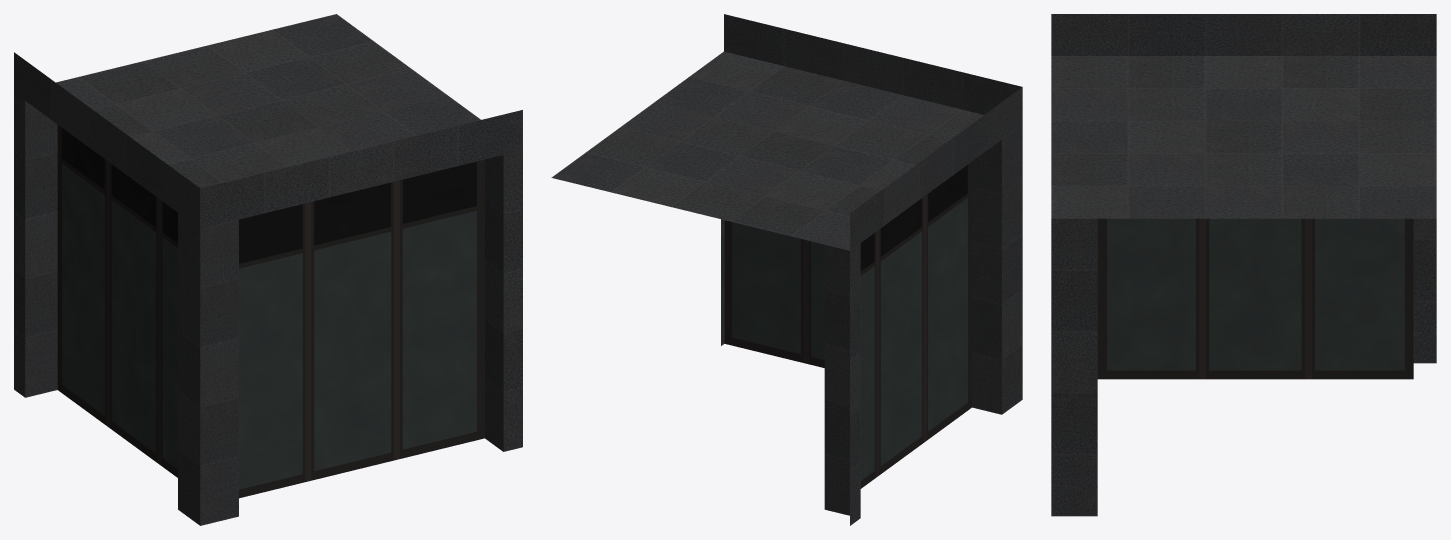
Rendered from ground_floor_corner.glb.
The picture shows the model from 3 angles, left to right: view 1: azimuth 30°, elevation 25°; view 2: azimuth 150°, elevation 25°; view 3: azimuth 270°, elevation 25°; orthographic projection. The views are drawn at different scales.
Parts seen in each view (by area): view 1: Glass 1, Entablature, Glass 2, Column 1, Column 3, Column 2; view 2: Entablature, Glass 2, Column 1, Glass 1, Column 3; view 3: Entablature, Glass 2, Column 2, Column 3.
Part boxes in pixels (box(x1,y1,x2,y2)): Glass 1: box(239, 159, 484, 498); Entablature: box(14, 14, 522, 228); Glass 2: box(57, 125, 177, 477); Column 1: box(178, 213, 238, 525); Column 3: box(14, 93, 57, 397); Column 2: box(485, 150, 522, 451); Entablature: box(551, 14, 1022, 250); Glass 2: box(860, 162, 971, 488); Column 1: box(972, 125, 1022, 414); Glass 1: box(724, 220, 824, 367); Column 3: box(824, 243, 860, 525); Entablature: box(1051, 14, 1436, 218); Glass 2: box(1097, 218, 1413, 379); Column 2: box(1051, 218, 1097, 516); Column 3: box(1413, 218, 1436, 363).
Bounding box in the file's own units: 5 × 5 × 5.
Materials: 2 (2 with a texture image).
